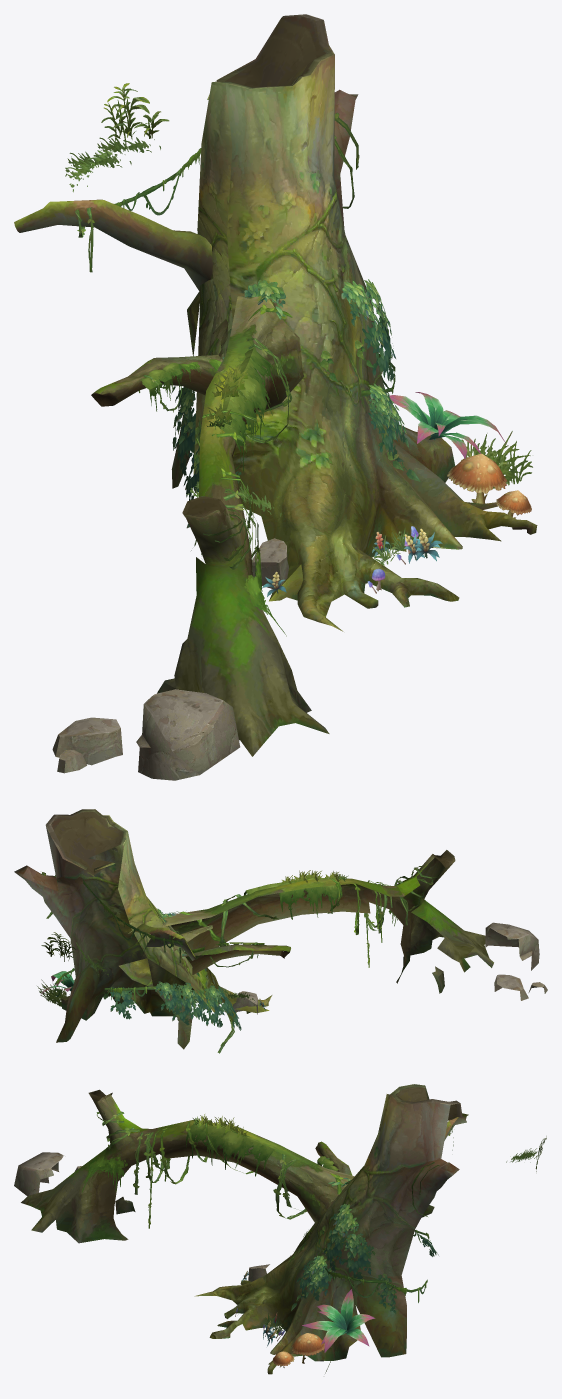
3 renders of one model, top to bottom at view 1: azimuth 30°, elevation 25°; view 2: azimuth 150°, elevation 25°; view 3: azimuth 270°, elevation 25°, orthographic. The views are drawn at different scales.
Parts seen in each view (by area): view 1: Mesh_5; view 2: Mesh_5; view 3: Mesh_5.
Boxes of the visible parts, <box> form: Mesh_5: <box>14,14,537,780</box>; Mesh_5: <box>14,809,547,1053</box>; Mesh_5: <box>14,1084,546,1374</box>.
Size of the model in its own units: 7.91 by 4.73 by 8.99.
